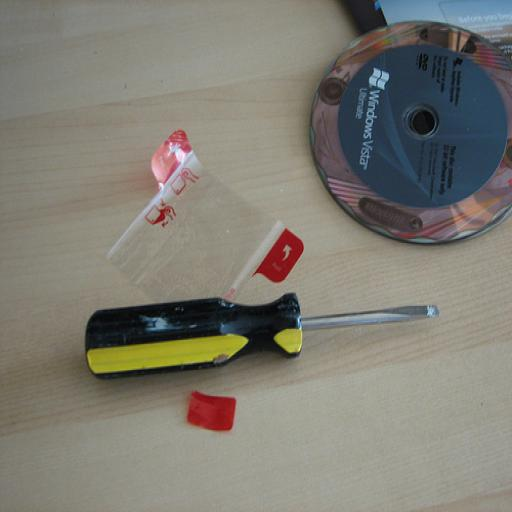screwdriver: (84, 294, 440, 379)
